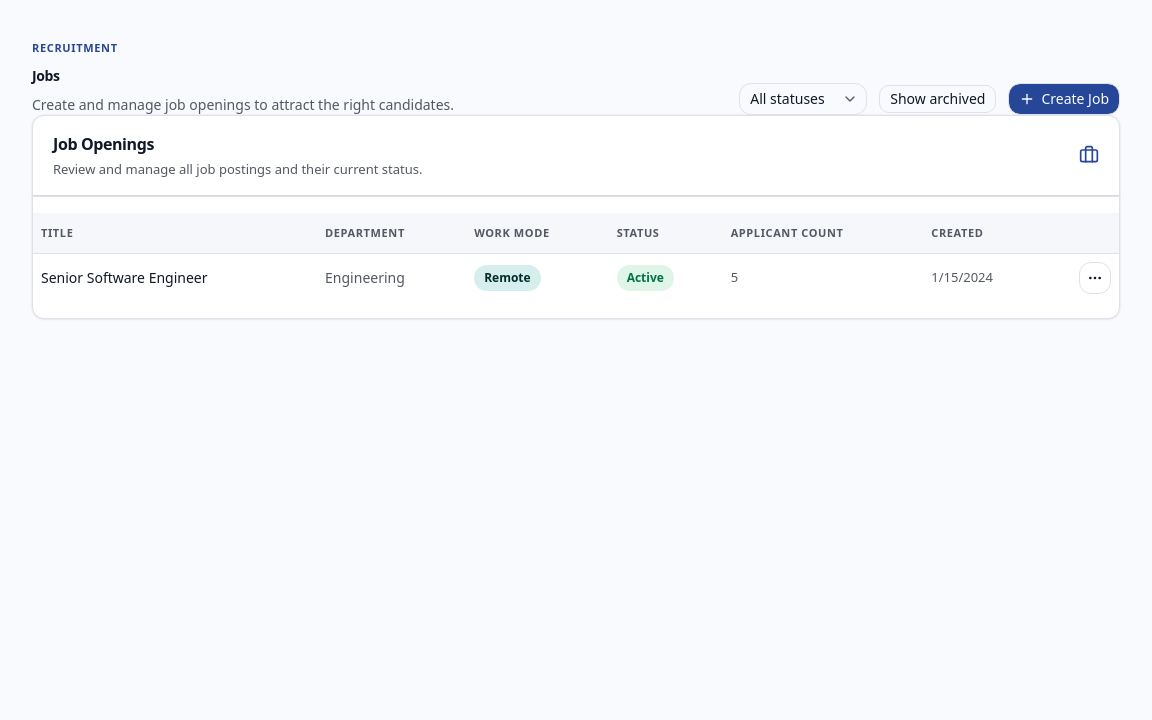
Test case: JobsPage › Confirmation Dialogs › shows archive job confirmation with exact UI-spec text
expect the button "Senior Software Engineer" is shown: met, box left=41, top=268, right=309, bottom=288
Click the button named "Manage Senior Software Engineer": (1095, 278) left=1079, top=262, right=1111, bottom=294
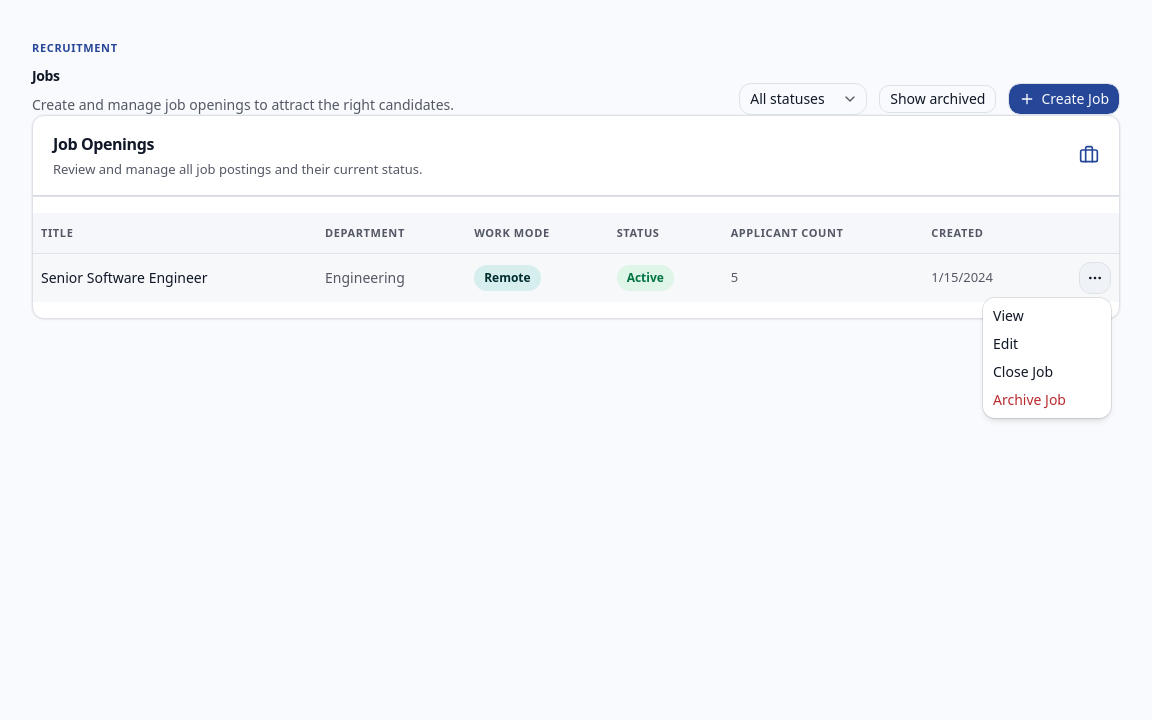
Click the menu item "Archive Job": (1030, 400) left=993, top=390, right=1066, bottom=409
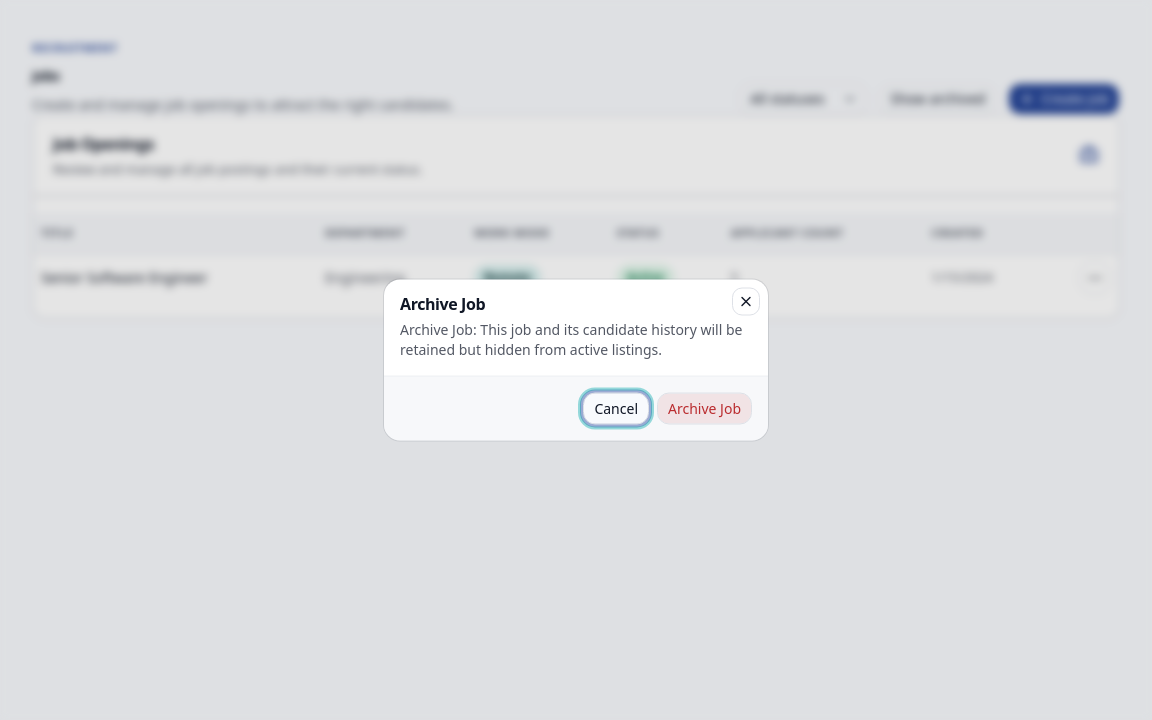
expect the text "Archive Job: This job and its candidate history will be retained but hidden from active listings." is shown: met, box left=400, top=320, right=742, bottom=358
expect the button "Cancel" is shown: met, box left=583, top=392, right=649, bottom=424
expect the button "Archive Job" is shown: met, box left=657, top=392, right=752, bottom=424
